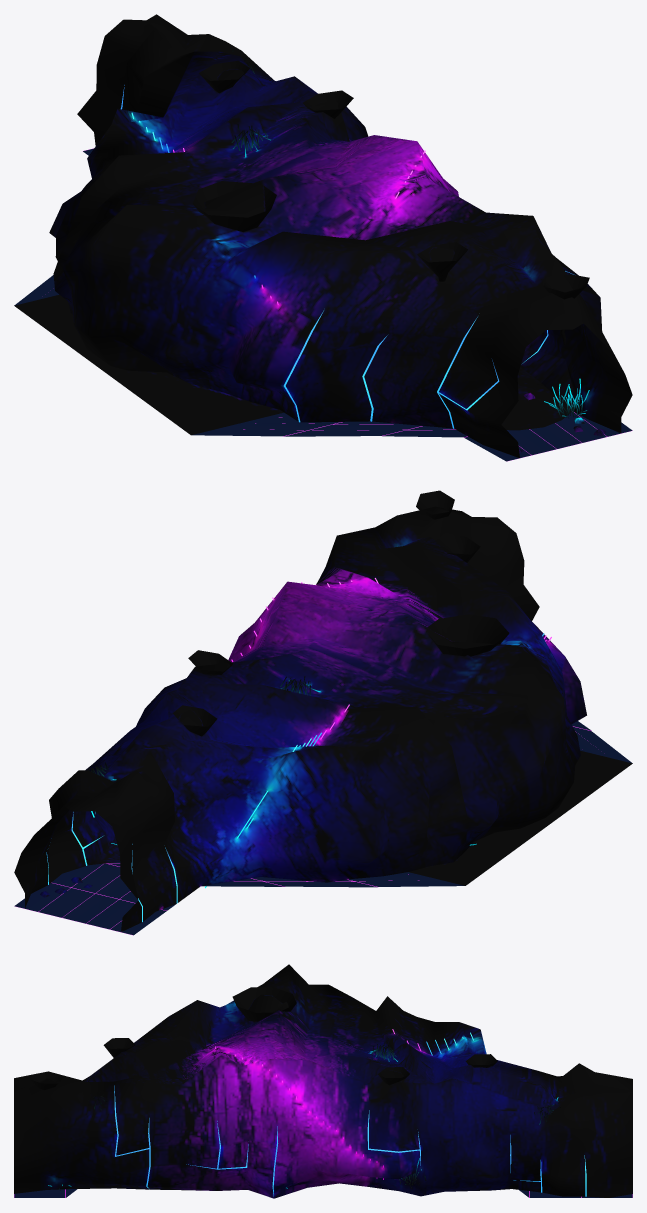
File: Cave_Corridor_3.fbx
The picture shows the model from 3 angles, top to bottom: view 1: azimuth 30°, elevation 25°; view 2: azimuth 150°, elevation 25°; view 3: azimuth 270°, elevation 25°; orthographic projection. The views are drawn at different scales.
Visible parts, largest first — view 1: Cave_Corridor_3; view 2: Cave_Corridor_3; view 3: Cave_Corridor_3.
Boxes of the visible parts, x1=… form: Cave_Corridor_3: x1=14, y1=14, x2=632, y2=461; Cave_Corridor_3: x1=14, y1=490, x2=632, y2=935; Cave_Corridor_3: x1=14, y1=964, x2=632, y2=1198.
Bounding box in the file's own units: 23.74 × 10.57 × 46.
